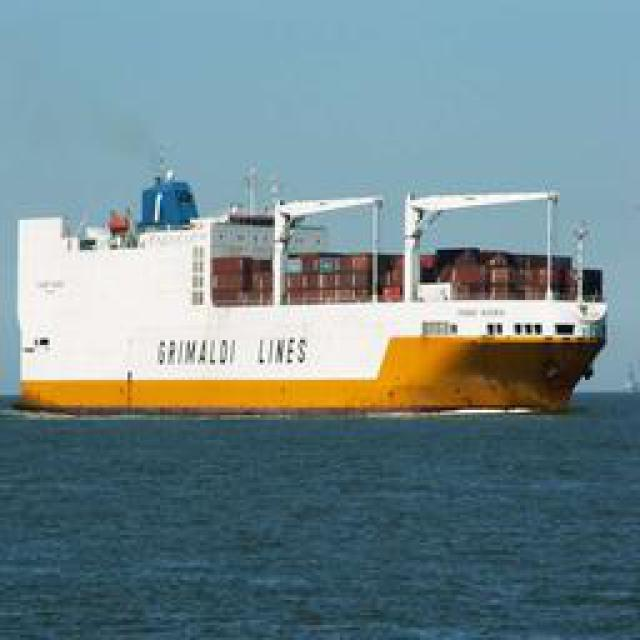Ship: (21, 167, 614, 420)
